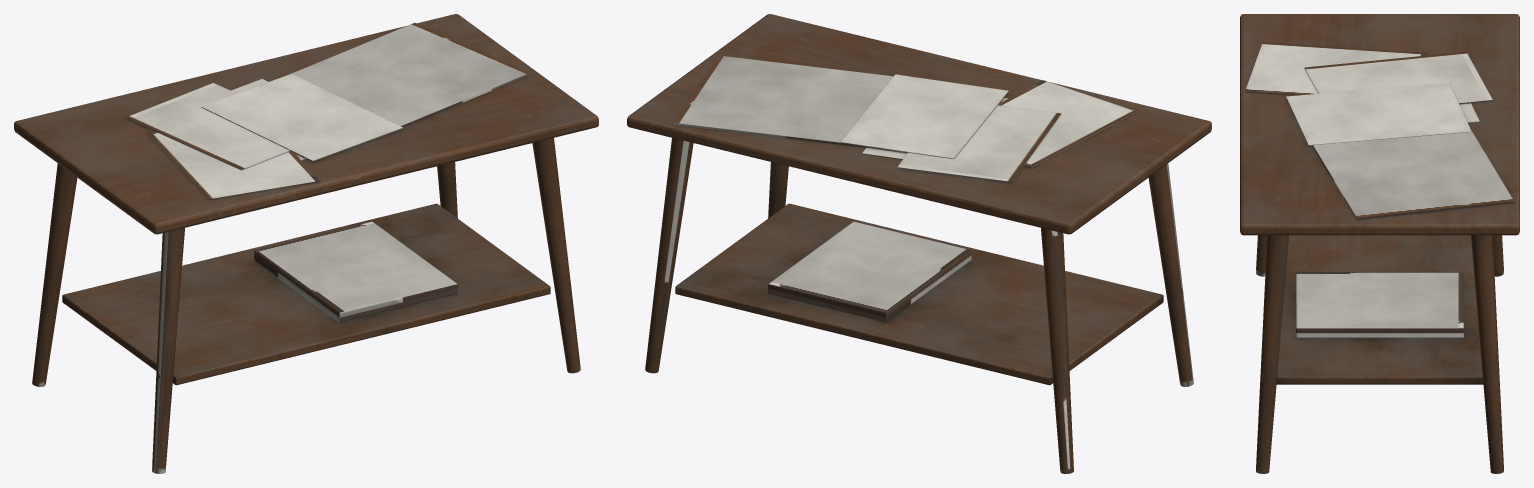
The model's file is CoffeeTable.fbx.
3 views of the same model, side by side, from view 1: azimuth 30°, elevation 25°; view 2: azimuth 150°, elevation 25°; view 3: azimuth 270°, elevation 25° (orthographic). The views are drawn at different scales.
Parts seen in each view (by area): view 1: CoffeeTable_Mesh; view 2: CoffeeTable_Mesh; view 3: CoffeeTable_Mesh.
Boxes of the visible parts, <box> form: CoffeeTable_Mesh: <box>14,14,598,473</box>; CoffeeTable_Mesh: <box>627,14,1211,473</box>; CoffeeTable_Mesh: <box>1240,14,1519,473</box>.
Size of the model in its own units: 0.9 by 0.507 by 0.5.
